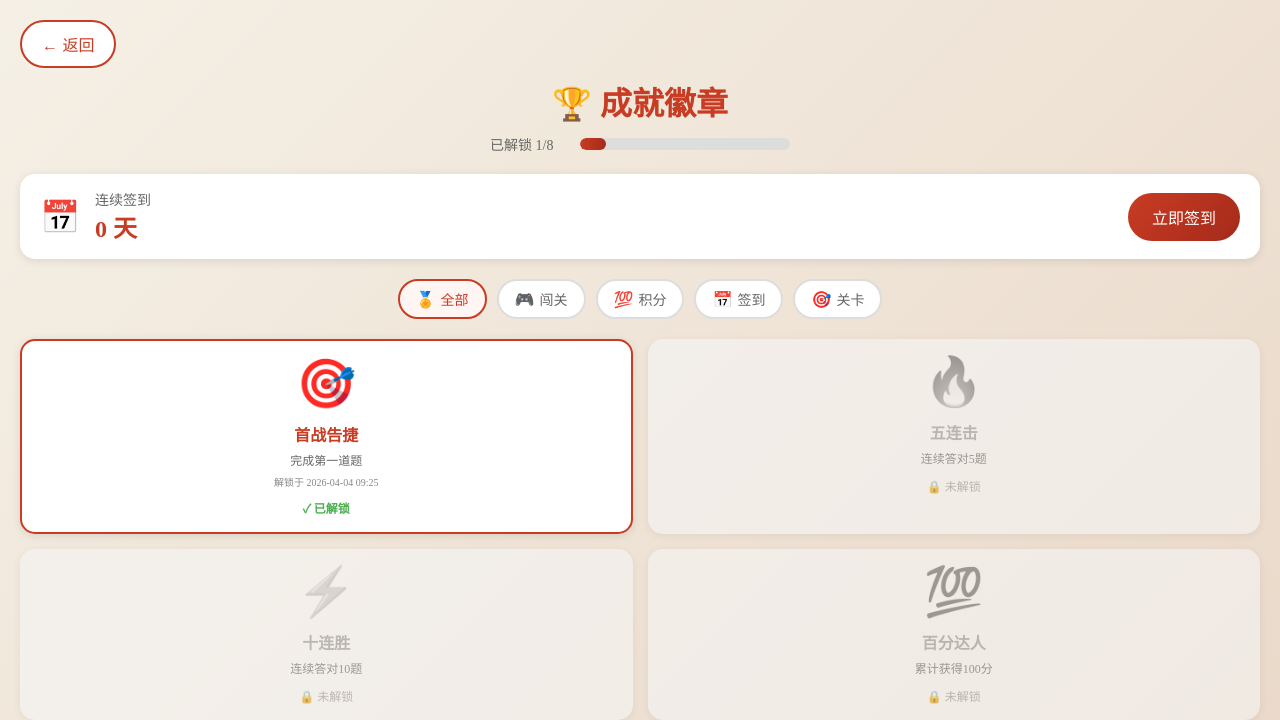
Scenario: Achievements Component › achievement details modal › should show unlock condition for locked achievements
This screenshot has width=1280, height=720.
What coordinates should you click on to do the following:
click the text "十连胜"
I would click on:
 (326, 654)
Its box is [290, 630, 362, 677].
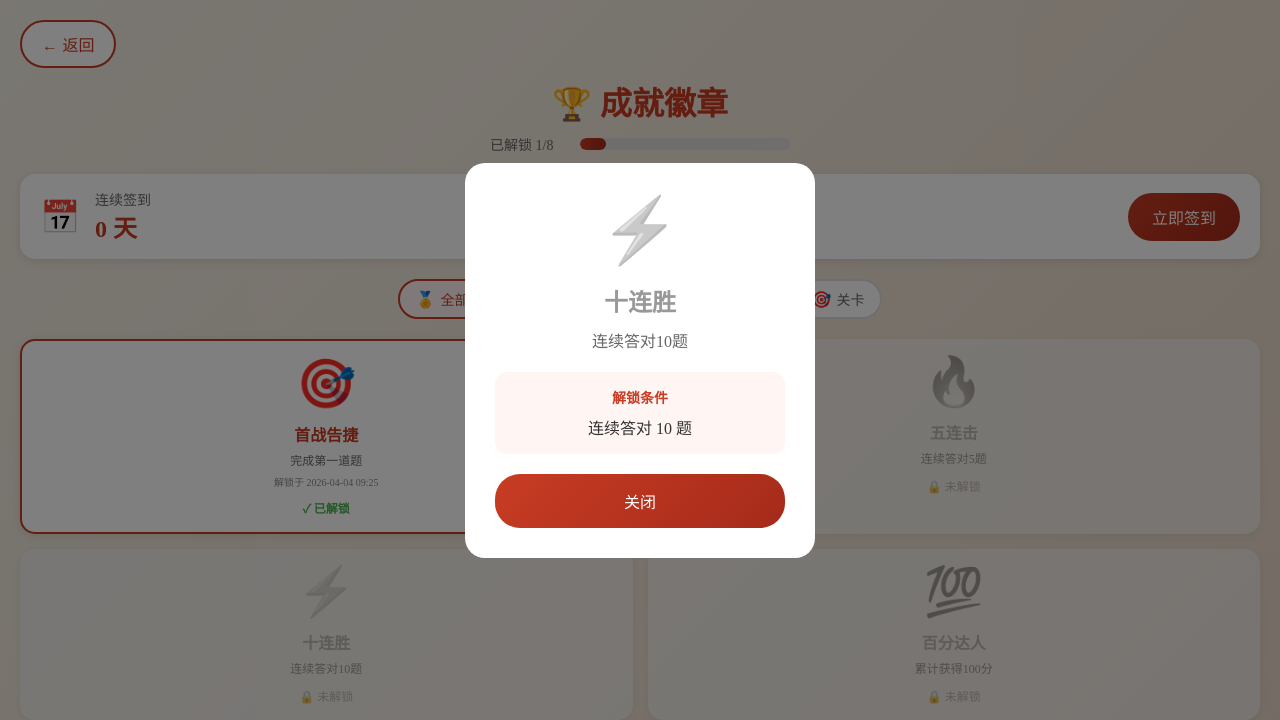
Expected: the text "解锁条件" is shown, [612, 390, 668, 406]
